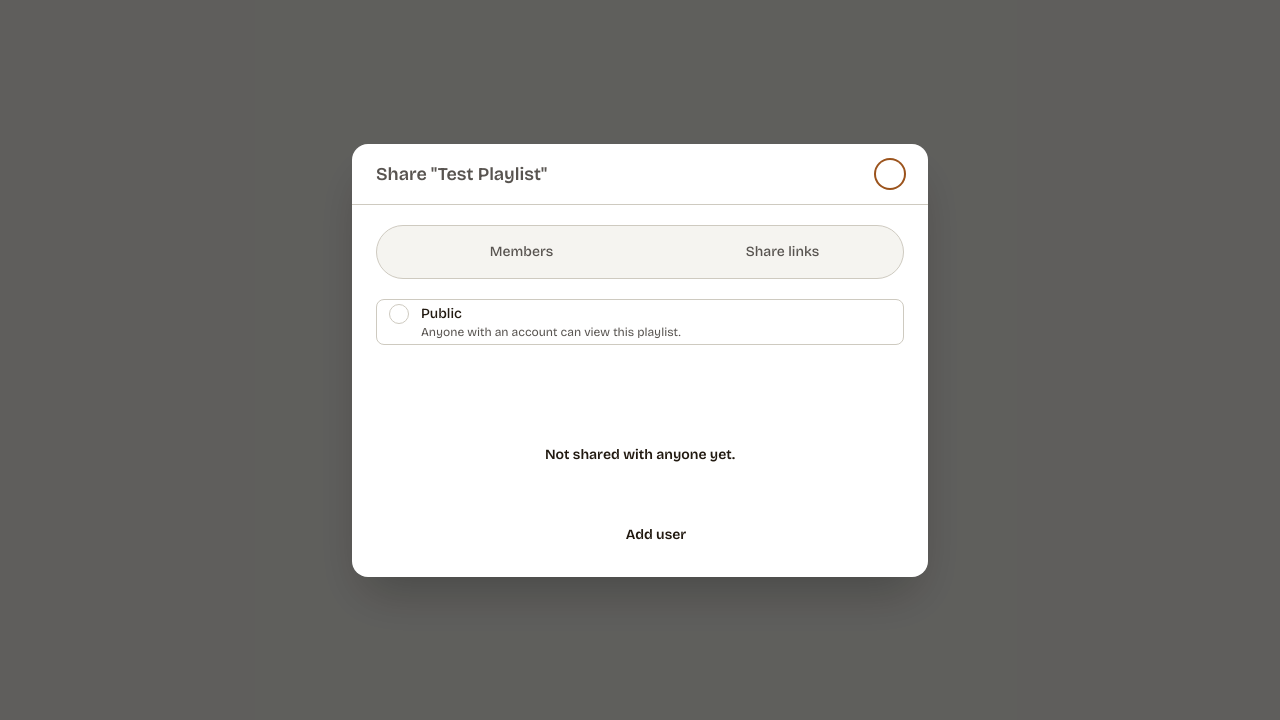
Scenario: SharePlaylistModal allow-download switch › shows the switch reflecting the detail flag
Click the tab "Share links" at (770, 252), box top-left (642, 230), bottom-right (899, 274)
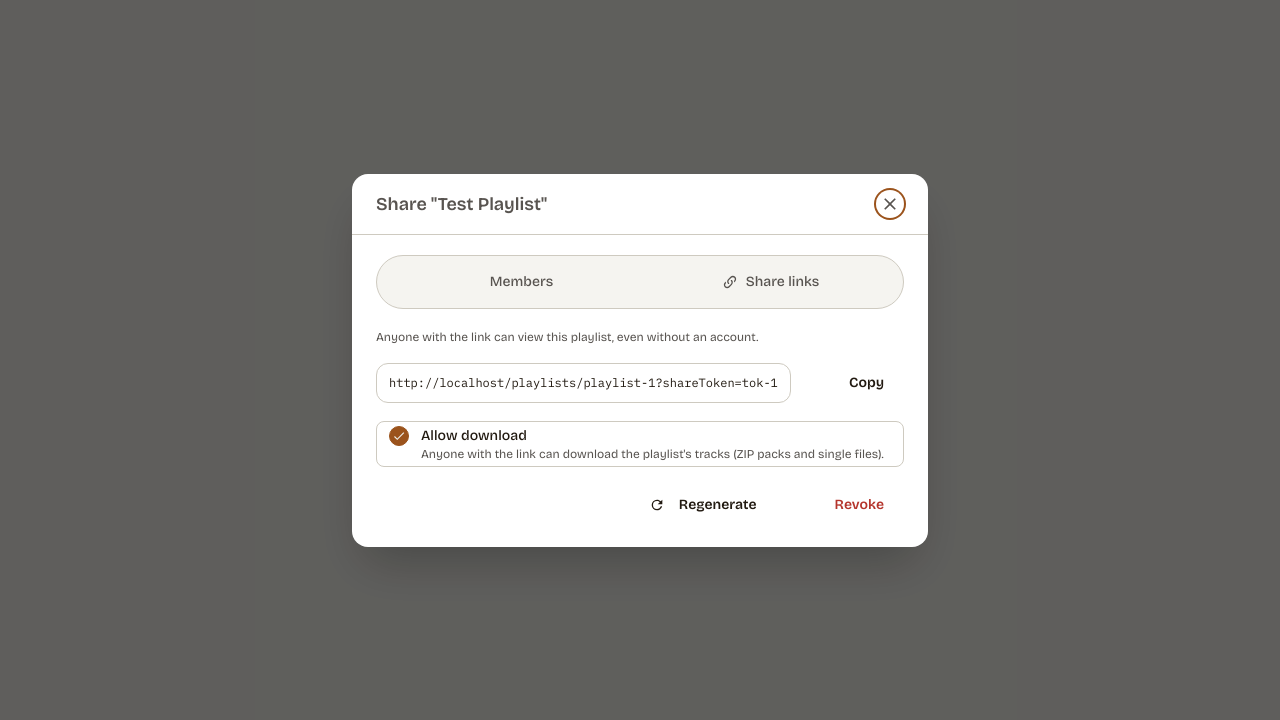
Check: the field named "Share link" is shown, box top-left (376, 362), bottom-right (791, 402)
